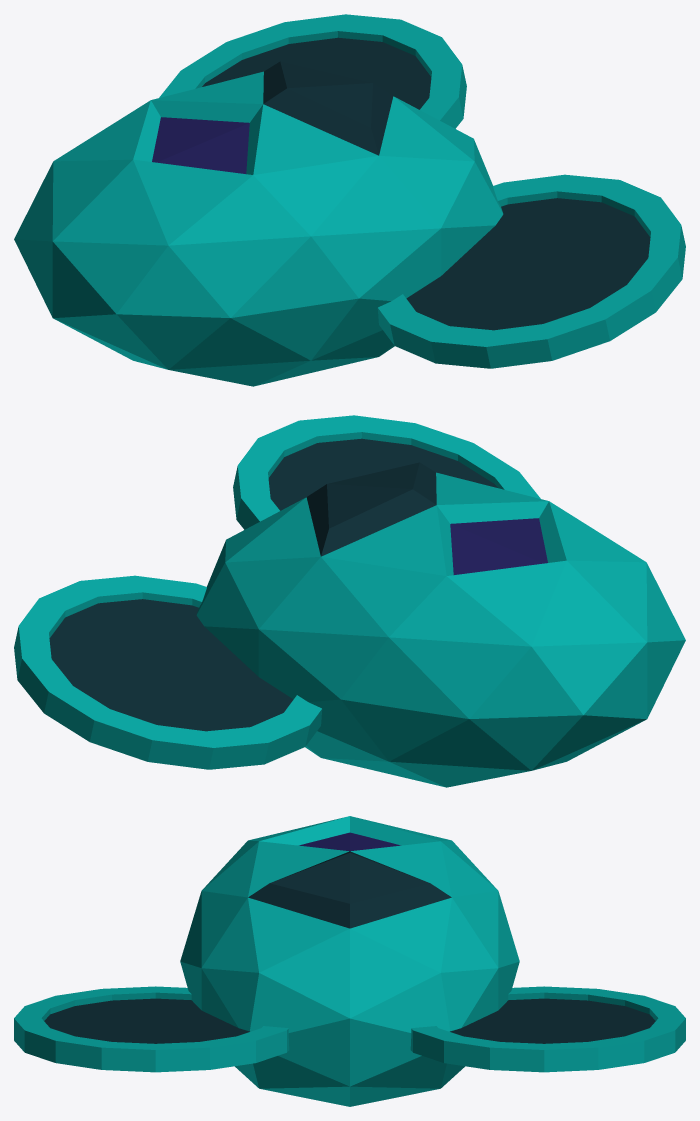
Rendered from Blimp.fbx.
3 views of the same model, one above another, from view 1: azimuth 30°, elevation 25°; view 2: azimuth 150°, elevation 25°; view 3: azimuth 270°, elevation 25° (orthographic). The views are drawn at different scales.
Parts seen in each view (by area): view 1: blimp; view 2: blimp; view 3: blimp.
Part boxes in pixels (x1,y1,x2,y2): blimp: (14, 14, 685, 386); blimp: (14, 415, 685, 787); blimp: (14, 816, 685, 1106).
Bounding box in the file's own units: 227 × 112 × 297.
